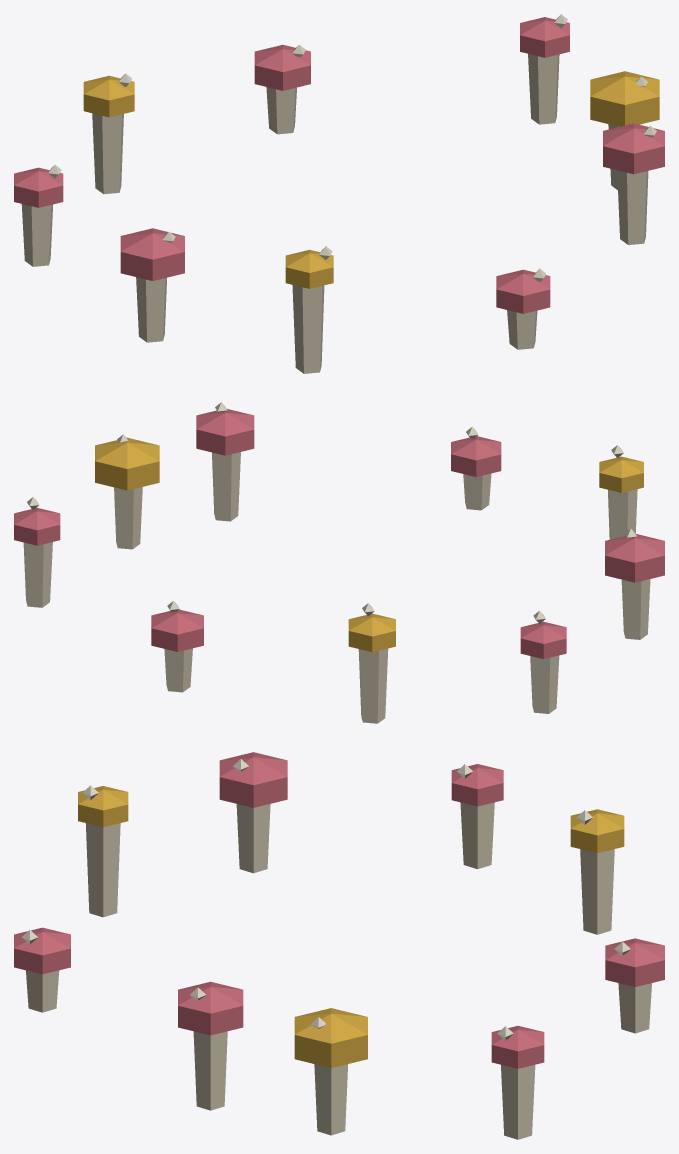
File: mushroom_ring.glb
3 renders of one model, top to bottom at view 1: azimuth 30°, elevation 25°; view 2: azimuth 150°, elevation 25°; view 3: azimuth 270°, elevation 25°, orthographic. The views are drawn at different scales.
Parts seen in each view (by area): view 1: mushroom_ring; view 2: mushroom_ring; view 3: mushroom_ring.
Boxes of the visible parts, left/top/right/bottom form: mushroom_ring: left=14, top=14, right=664, bottom=373; mushroom_ring: left=14, top=402, right=664, bottom=723; mushroom_ring: left=14, top=752, right=664, bottom=1139.
Size of the model in its own units: 1.67 by 0.3453 by 1.55.
